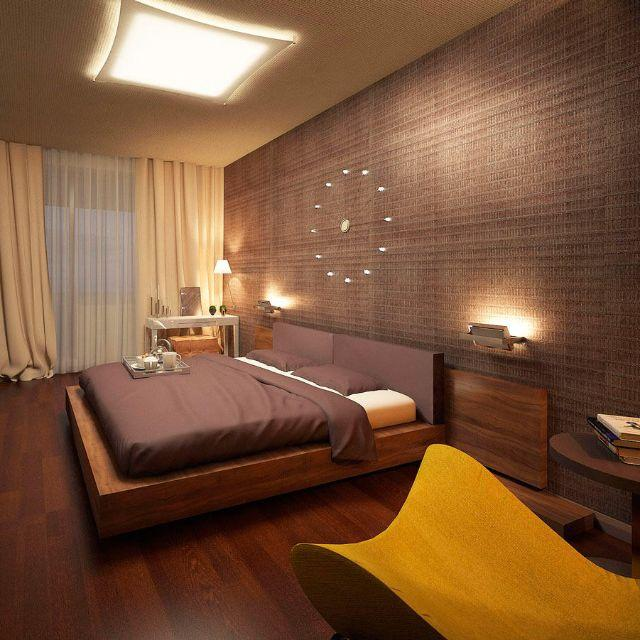bed: (65, 366, 440, 494)
lamp: (462, 313, 538, 351), (214, 259, 235, 310), (256, 289, 297, 315)
pillow: (293, 356, 386, 399), (248, 339, 313, 375)
window: (45, 149, 157, 363)
